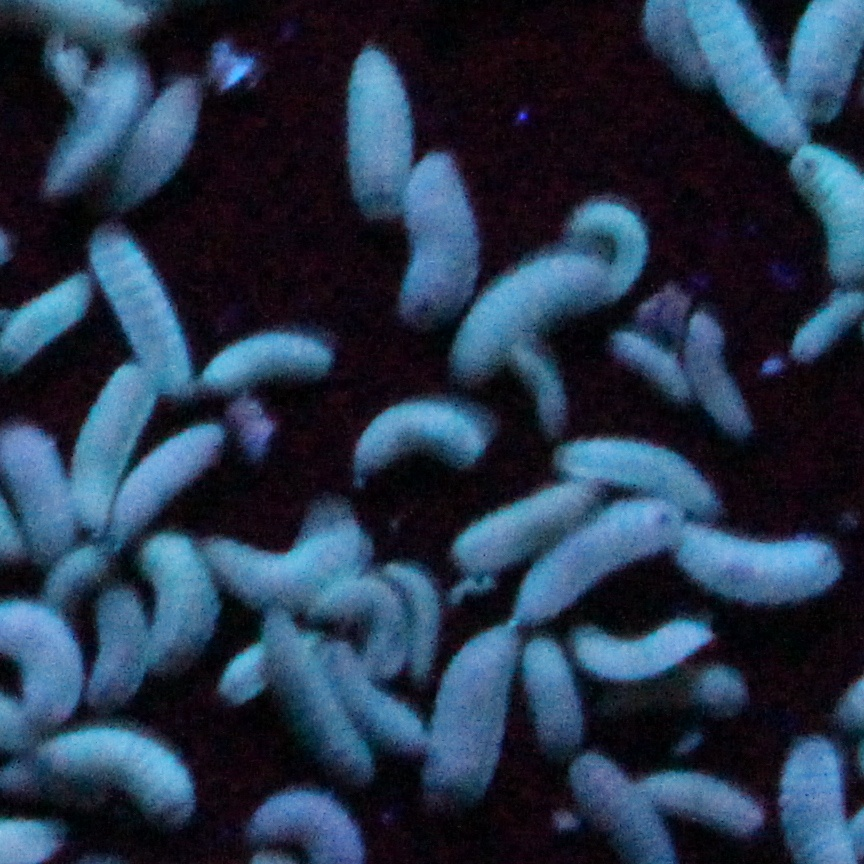larve: (463, 240, 616, 370), (416, 628, 522, 813), (526, 508, 679, 625), (268, 630, 371, 784), (338, 34, 417, 225), (88, 224, 187, 375), (554, 436, 724, 523), (39, 58, 145, 196), (673, 526, 843, 609), (401, 155, 483, 325), (45, 735, 201, 824), (449, 483, 599, 574), (70, 365, 150, 523), (136, 536, 223, 674), (123, 427, 218, 550), (219, 527, 382, 595), (353, 395, 478, 476), (131, 80, 213, 198), (1, 432, 72, 563), (637, 768, 761, 840), (318, 582, 428, 657), (521, 633, 587, 757), (212, 325, 332, 391), (570, 622, 710, 676), (89, 582, 150, 704)
